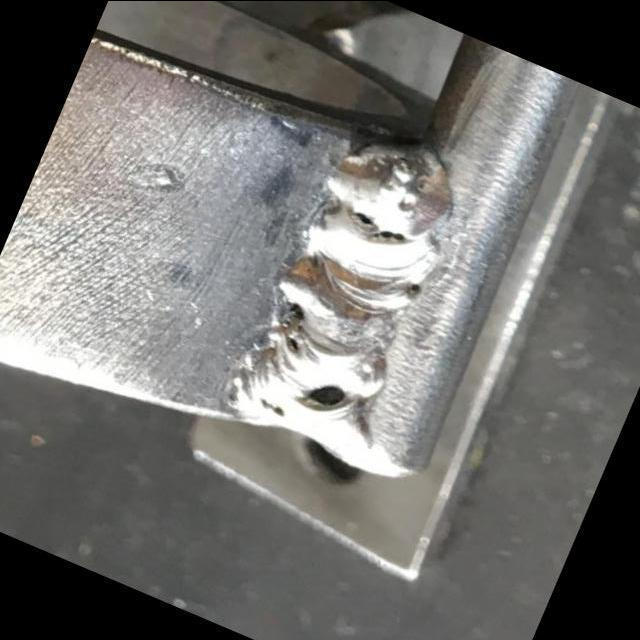defect: (288, 379, 357, 421), (348, 206, 410, 246), (280, 301, 317, 359), (406, 279, 424, 294)
